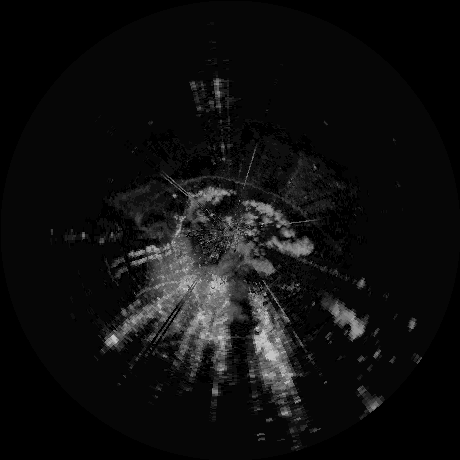frontgust: (147, 173, 308, 218)
